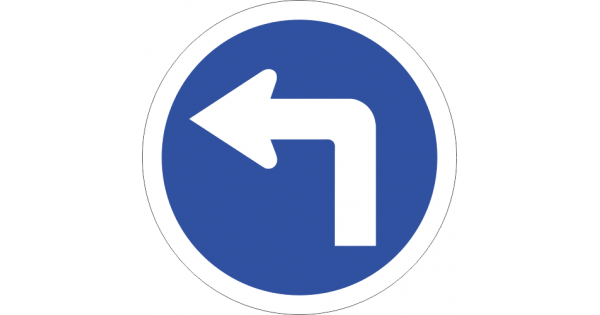left: (184, 67, 383, 250)
